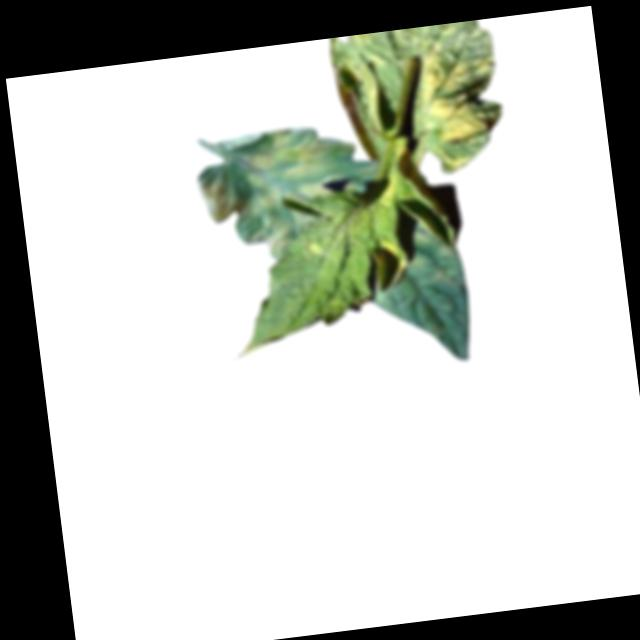Leaf_Mold: (190, 122, 368, 267), (410, 43, 505, 177), (403, 215, 465, 292), (368, 236, 408, 290)
